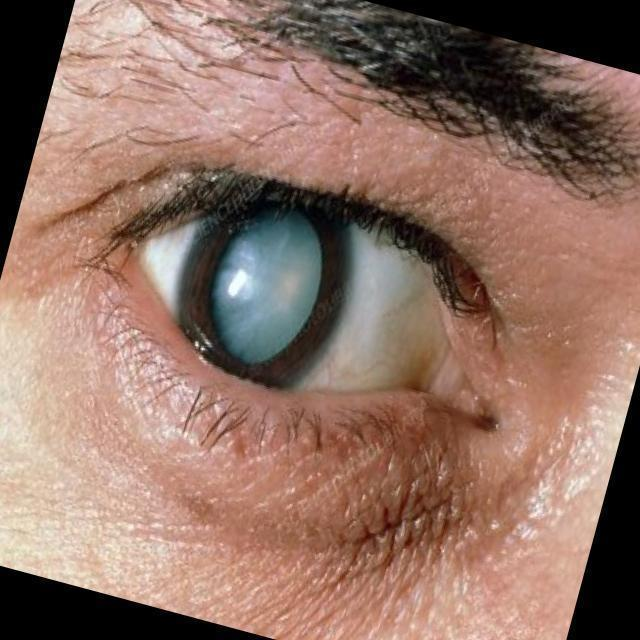Cataract: (118, 146, 405, 418)
